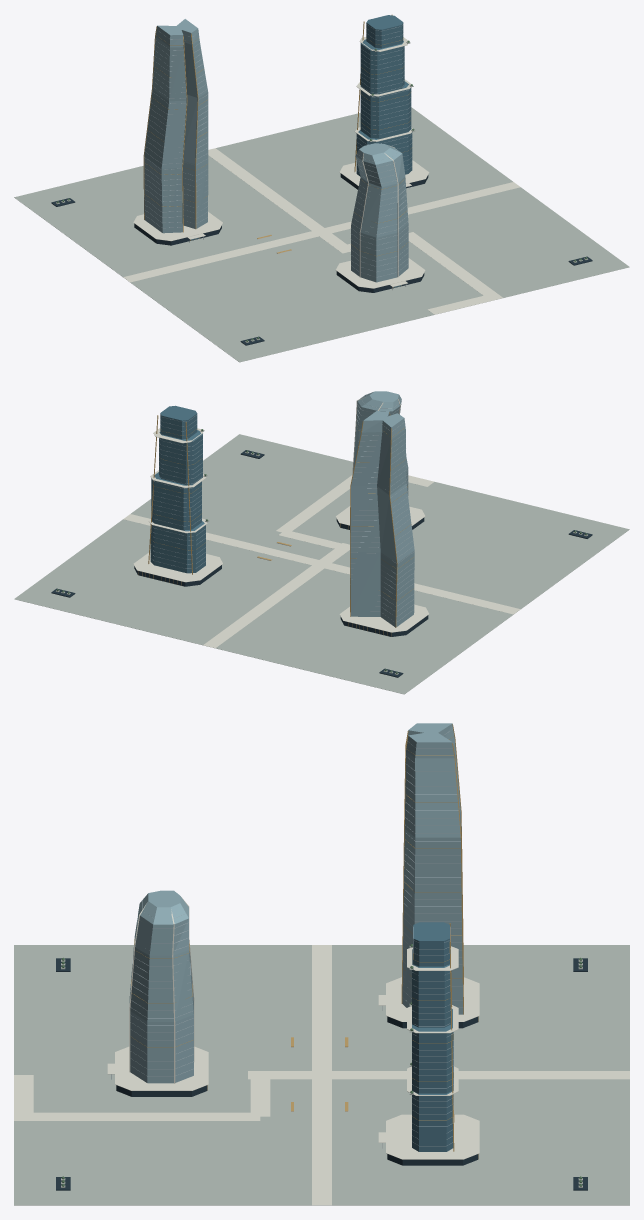
Rendered from center.glb.
The picture shows the model from 3 angles, top to bottom: view 1: azimuth 30°, elevation 25°; view 2: azimuth 150°, elevation 25°; view 3: azimuth 270°, elevation 25°; orthographic projection. The views are drawn at different scales.
Parts seen in each view (by area): view 1: GC-SUBCENTER-002-stone, GC-SUBCENTER-002-glass, GC-SUBCENTER-002-ivory, GC-SUBCENTER-002-blue, GC-SUBCENTER-002-silver, GC-SUBCENTER-002-gold, GC-SUBCENTER-002-dark; view 2: GC-SUBCENTER-002-stone, GC-SUBCENTER-002-glass, GC-SUBCENTER-002-ivory, GC-SUBCENTER-002-blue, GC-SUBCENTER-002-silver, GC-SUBCENTER-002-dark, GC-SUBCENTER-002-gold; view 3: GC-SUBCENTER-002-stone, GC-SUBCENTER-002-glass, GC-SUBCENTER-002-ivory, GC-SUBCENTER-002-blue, GC-SUBCENTER-002-silver, GC-SUBCENTER-002-gold, GC-SUBCENTER-002-dark.
Boxes of the visible parts, x1,y1,x2,y2 form: GC-SUBCENTER-002-stone: (14,42,629,362); GC-SUBCENTER-002-glass: (144,19,408,282); GC-SUBCENTER-002-ivory: (123,37,520,314); GC-SUBCENTER-002-blue: (191,15,412,287); GC-SUBCENTER-002-silver: (144,24,411,289); GC-SUBCENTER-002-gold: (143,14,411,287); GC-SUBCENTER-002-dark: (51,173,592,345); GC-SUBCENTER-002-stone: (14,430,629,694); GC-SUBCENTER-002-glass: (350,391,414,627); GC-SUBCENTER-002-ivory: (123,396,520,648); GC-SUBCENTER-002-blue: (150,405,205,573); GC-SUBCENTER-002-silver: (150,399,414,622); GC-SUBCENTER-002-dark: (51,450,592,677); GC-SUBCENTER-002-gold: (138,412,413,636); GC-SUBCENTER-002-stone: (14,945,629,1205); GC-SUBCENTER-002-glass: (129,723,463,1083); GC-SUBCENTER-002-ivory: (14,897,629,1205); GC-SUBCENTER-002-blue: (412,922,453,1151); GC-SUBCENTER-002-silver: (111,729,462,1148); GC-SUBCENTER-002-gold: (130,724,478,1158); GC-SUBCENTER-002-dark: (56,958,587,1190).
Size of the model in its own units: 500 by 245 by 500.
